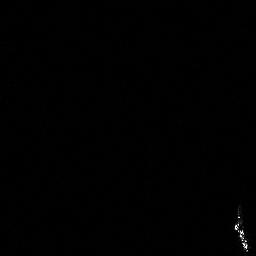ship: (230, 205, 252, 256)
